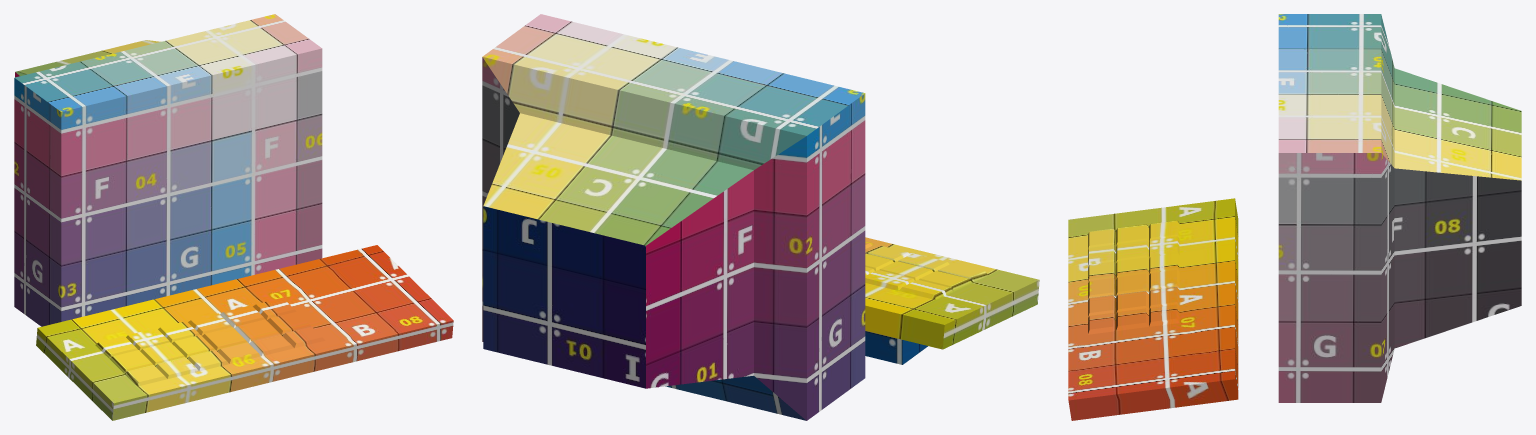
The model's file is ComputerUV.fbx.
3 renders of one model, left to right at view 1: azimuth 30°, elevation 25°; view 2: azimuth 150°, elevation 25°; view 3: azimuth 270°, elevation 25°, orthographic. The views are drawn at different scales.
Parts seen in each view (by area): view 1: Computer3; view 2: Computer3; view 3: Computer3.
Boxes of the visible parts, x1,y1,x2,y2 form: Computer3: [14, 14, 453, 420]; Computer3: [482, 14, 1039, 420]; Computer3: [1068, 14, 1521, 420].
Bounding box in the file's own units: 36.35 × 23.45 × 38.49.
Materials: 1 (1 with a texture image).
